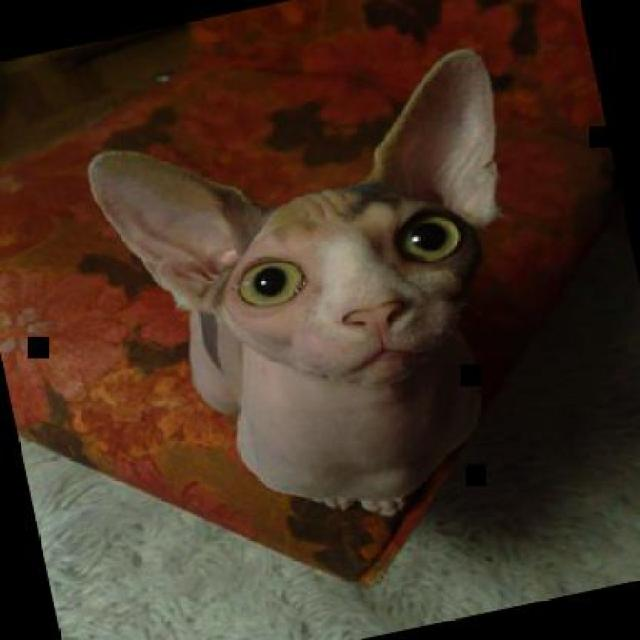cat: (79, 41, 578, 562)
